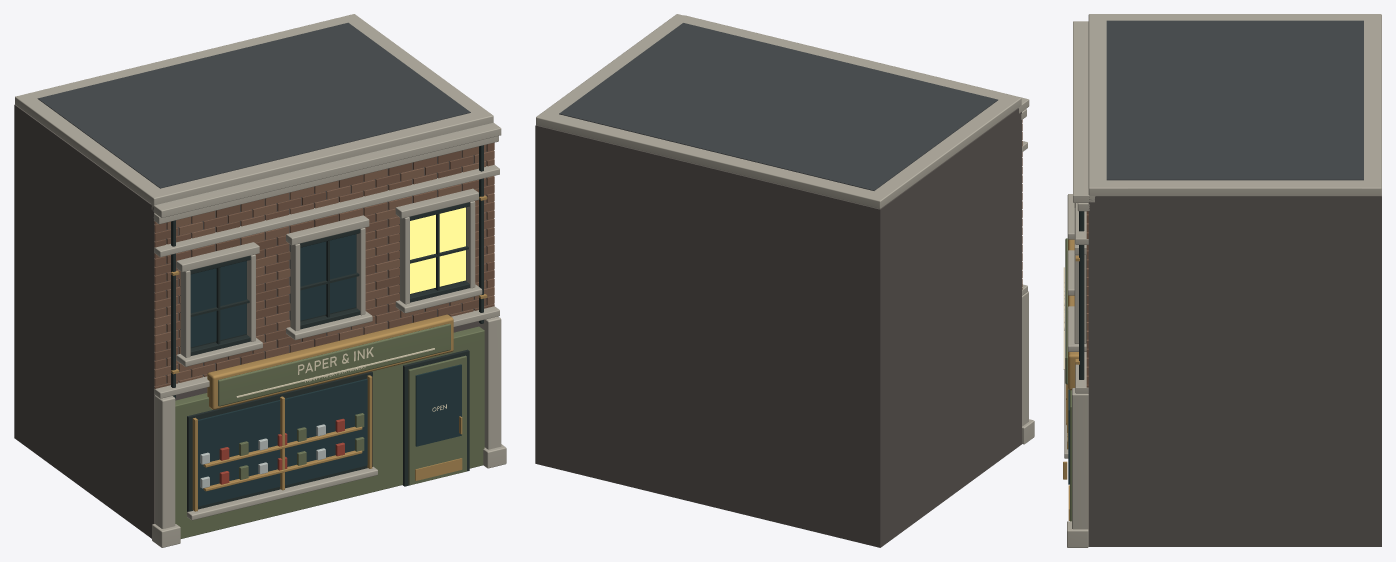
Rendered from district-paper-ink.glb.
3 views of the same model, side by side, from view 1: azimuth 30°, elevation 25°; view 2: azimuth 150°, elevation 25°; view 3: azimuth 270°, elevation 25° (orthographic). The views are drawn at different scales.
Parts seen in each view (by area): view 1: Existing envelope, District Roof membrane, District Warm limestone, District Opaque dark glazing, Roof cap, District Coffee enamel, District Charcoal painted metal, District Brick tone 0, Sign enamel inset, District Brick tone 3, District Brick tone 4, District Brick tone 1 (+7 smaller); view 2: Existing envelope, District Roof membrane, Roof cap, District Warm limestone; view 3: Existing envelope, District Roof membrane, Roof cap, District Warm limestone, District Charcoal painted metal, Sign brass frame, Sign enamel inset, District Aged brass.
Boxes of the visible parts, x1,y1,x2,y2 form: Existing envelope: (14,104,493,538); District Roof membrane: (37,22,470,188); District Warm limestone: (151,122,506,547); District Opaque dark glazing: (190,234,461,506); Roof cap: (15,14,493,205); District Coffee enamel: (175,326,484,538); District Charcoal painted metal: (171,145,483,511); District Brick tone 0: (154,150,494,388); Sign enamel inset: (218,323,450,406); District Brick tone 3: (154,150,494,382); District Brick tone 4: (166,161,494,382); District Brick tone 1: (154,142,494,369); Existing envelope: (535,108,1021,547); District Roof membrane: (559,23,997,190); Roof cap: (536,14,1021,208); District Warm limestone: (684,15,1034,444); Existing envelope: (1088,195,1381,546); District Roof membrane: (1106,20,1363,180); Roof cap: (1088,14,1381,196); District Warm limestone: (1064,21,1095,547); District Charcoal painted metal: (1079,211,1086,379); Sign brass frame: (1068,239,1078,390); Sign enamel inset: (1065,238,1067,384); District Aged brass: (1063,255,1079,520).
Size of the model in its own units: 7.71 by 7.31 by 5.87.
